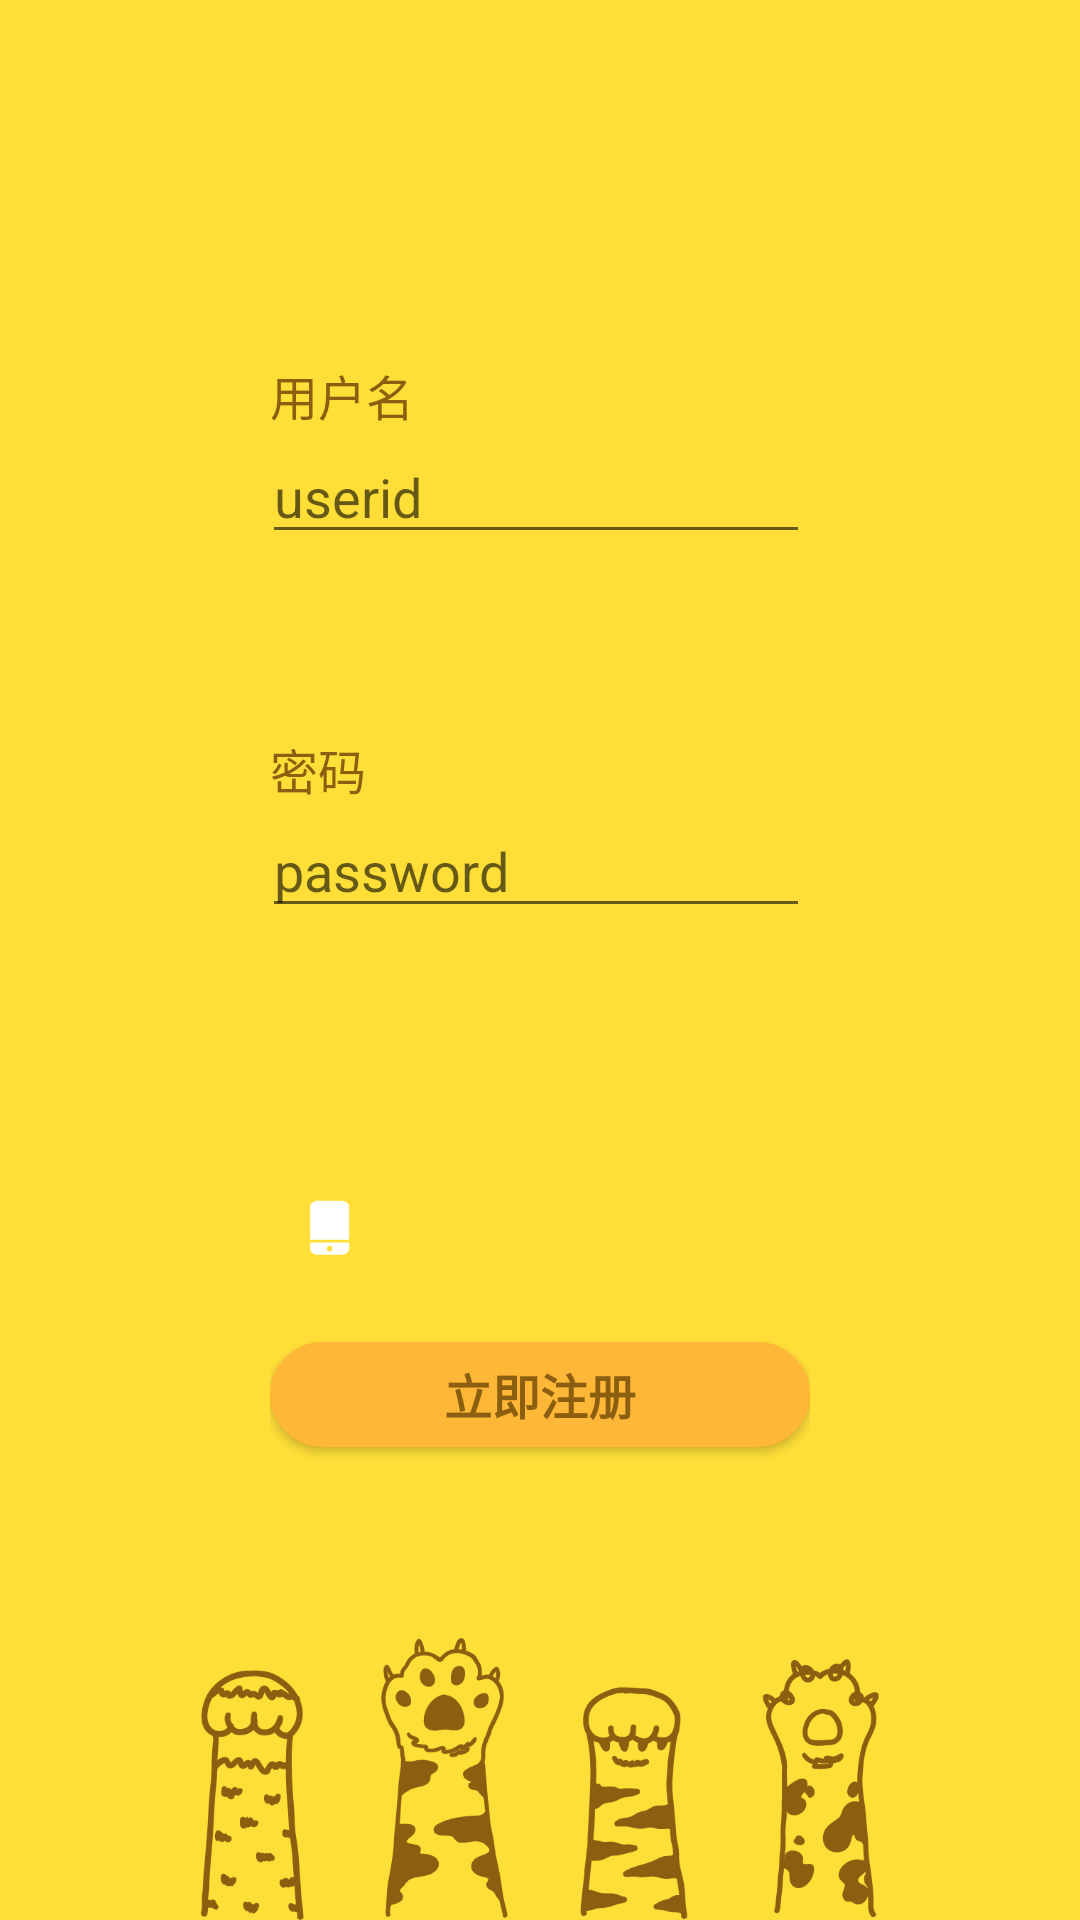

Where to tap for icons on this 1080w x 1920h app screen, as (x,y):
phone: (330,1227)
